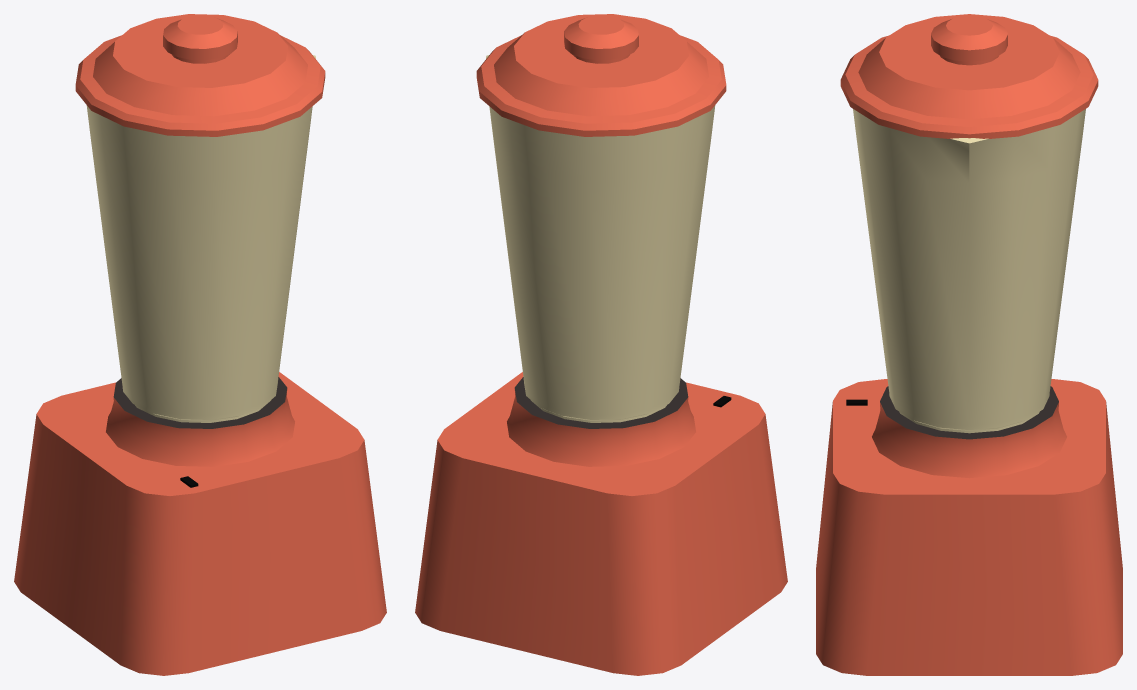
The model's file is blender.glb.
3 renders of one model, left to right at view 1: azimuth 30°, elevation 25°; view 2: azimuth 150°, elevation 25°; view 3: azimuth 270°, elevation 25°, orthographic. The views are drawn at different scales.
Parts seen in each view (by area): view 1: bottom.001, body.001, cap.001; view 2: bottom.001, body.001, cap.001; view 3: bottom.001, body.001, cap.001.
Boxes of the visible parts, box(x1,y1,x2,y2) form: bottom.001: box(14, 372, 386, 675); body.001: box(86, 55, 315, 422); cap.001: box(75, 14, 325, 136); bottom.001: box(415, 372, 787, 675); body.001: box(486, 55, 715, 422); cap.001: box(476, 14, 726, 136); bottom.001: box(816, 379, 1122, 675); body.001: box(853, 109, 1085, 433); cap.001: box(840, 14, 1098, 138).
Size of the model in its own units: 0.2324 by 0.4894 by 0.2324.
Materials: 1 (1 with a texture image).
